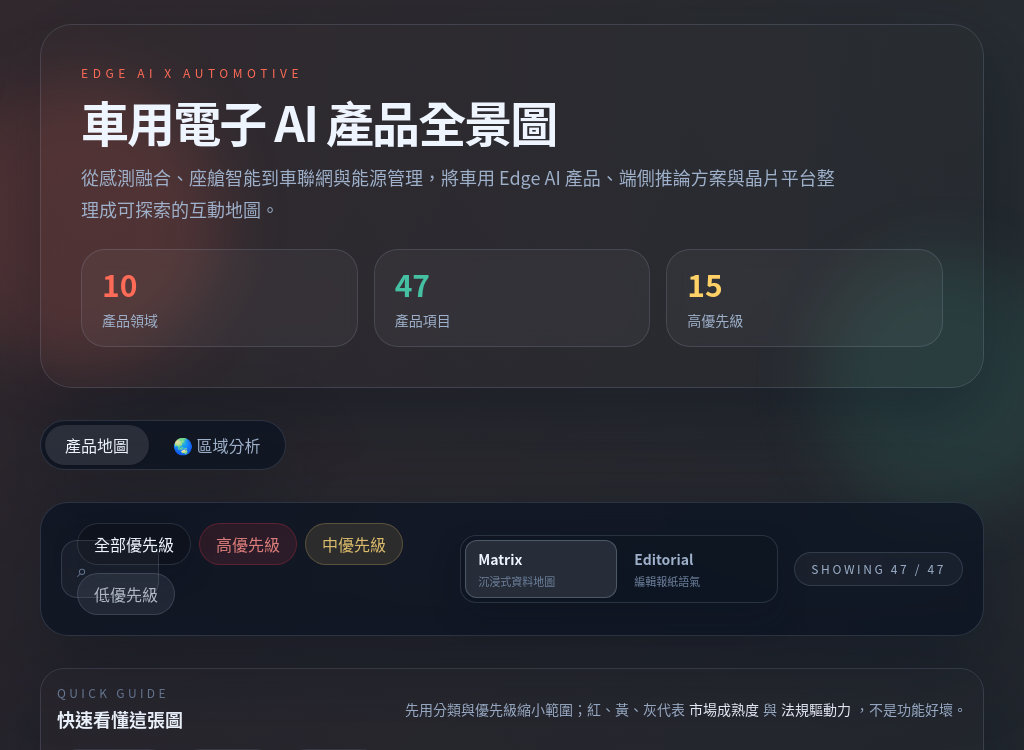
Test case: EdgeAIMapExplorer › updates the product count when a priority filter is selected
Click the button "高優先級".
click(248, 544)  # box [199,523,297,565]
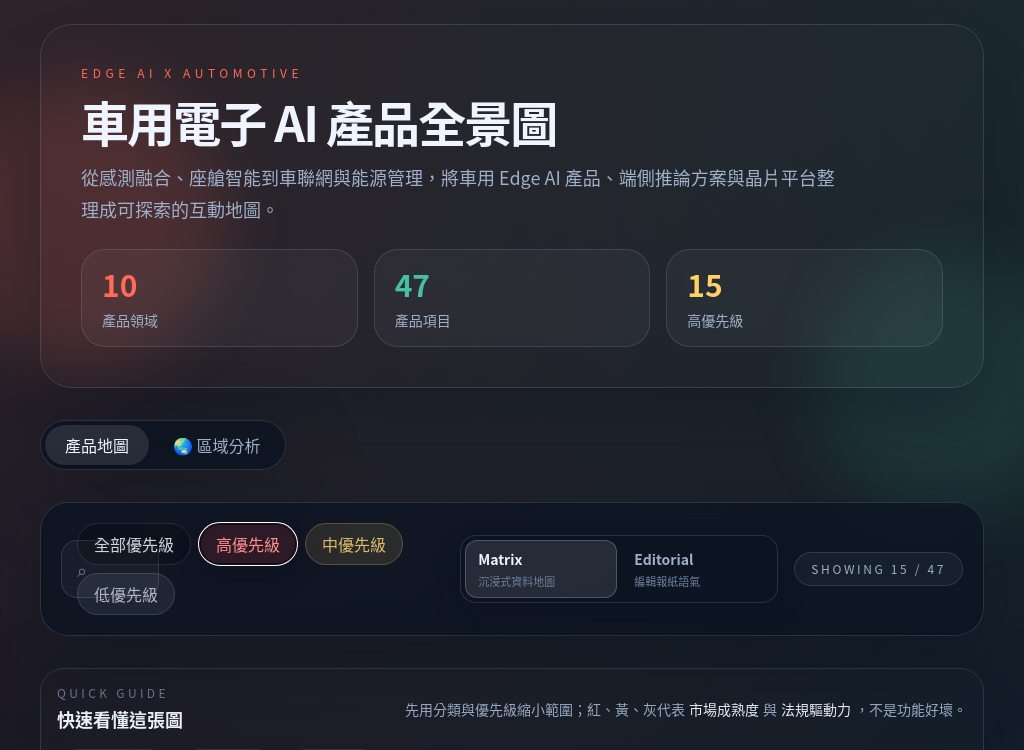
Now the text "Showing 15 / 47" is shown, box [794,552,963,586]
